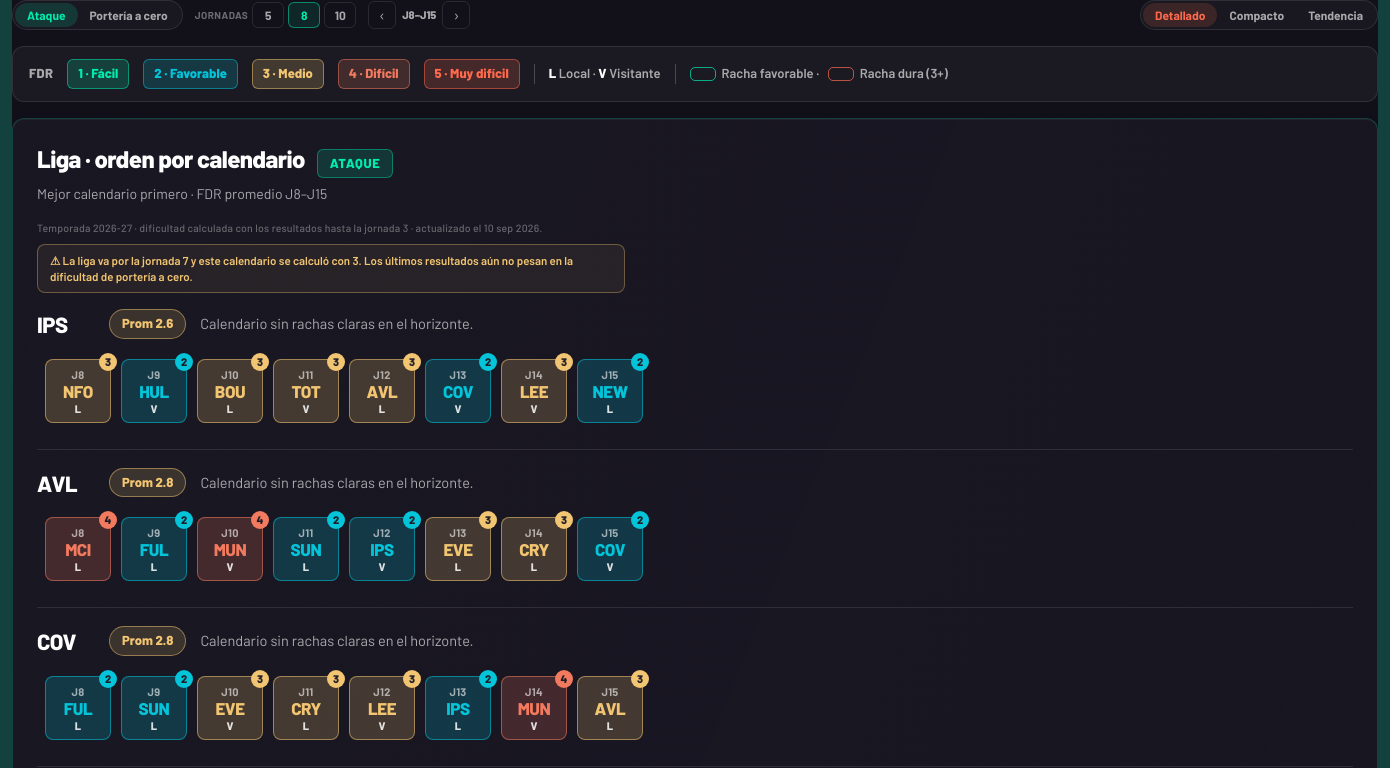
mobile and the pager are unchanged › outside the workspace Compact keeps the full block, the 5/8/10 selector and the 8-gameweek default
Click the button "Compacto" at (1257, 15), box [1217,3,1296,27]
(page scrolled)
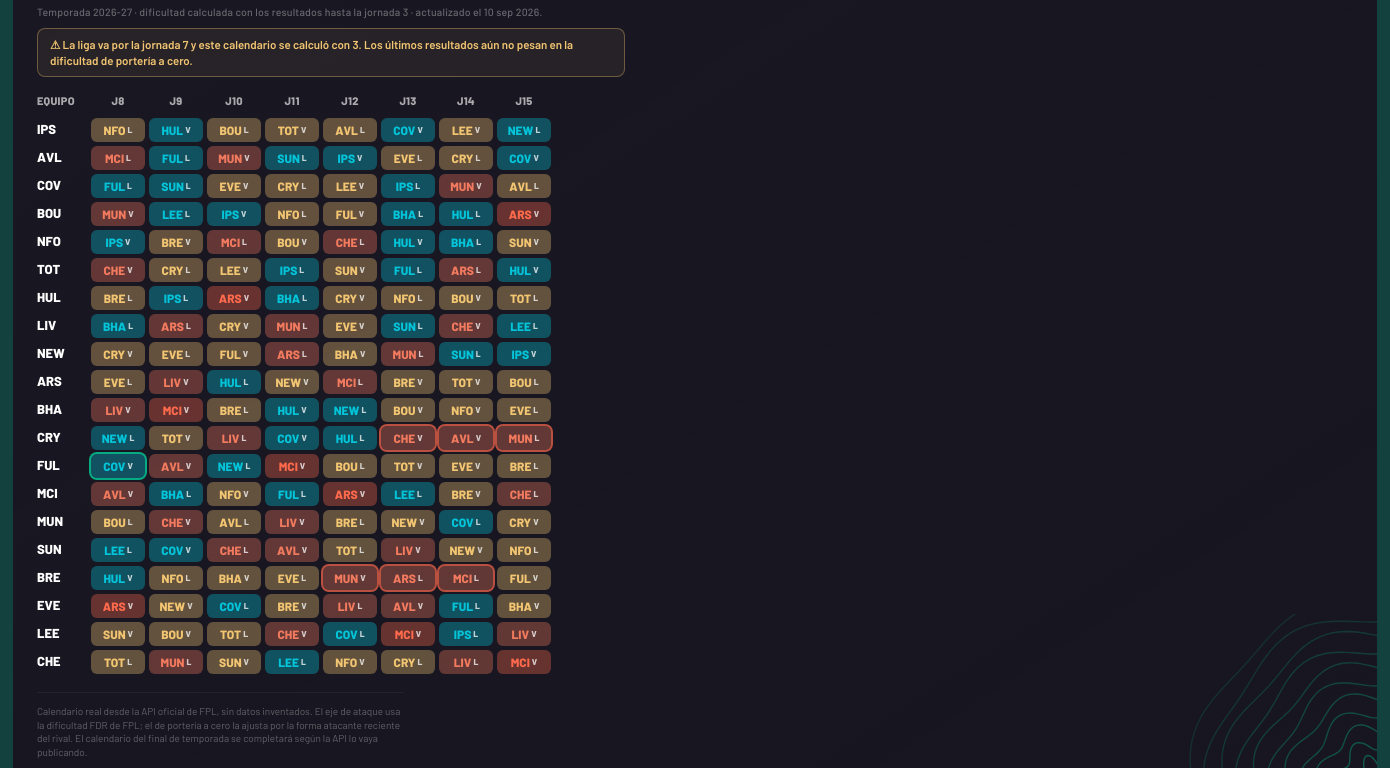
Expected: the element with test id "fixture-provenance" is shown, [37,4,625,77]
Result: the element with class "fx-compact" is shown at [37,94,87,672]
